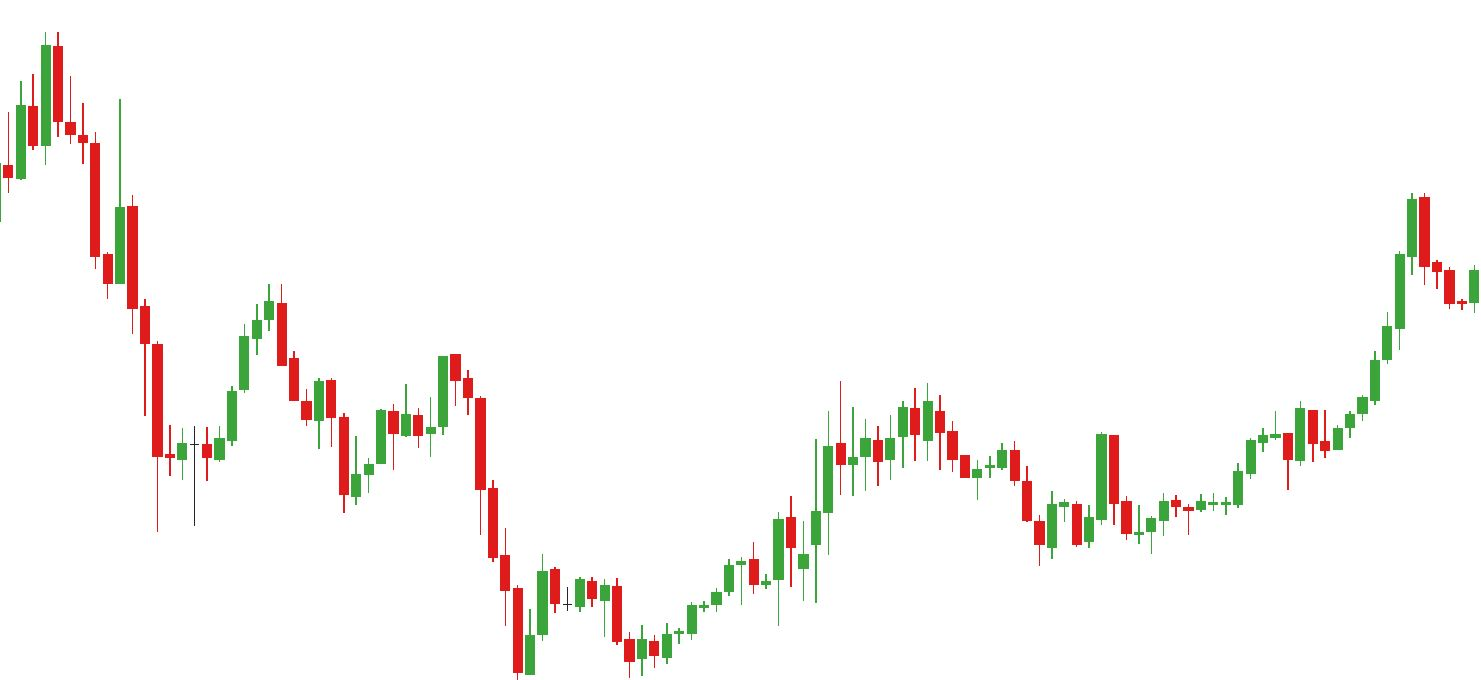buy: (514, 583, 647, 675)
